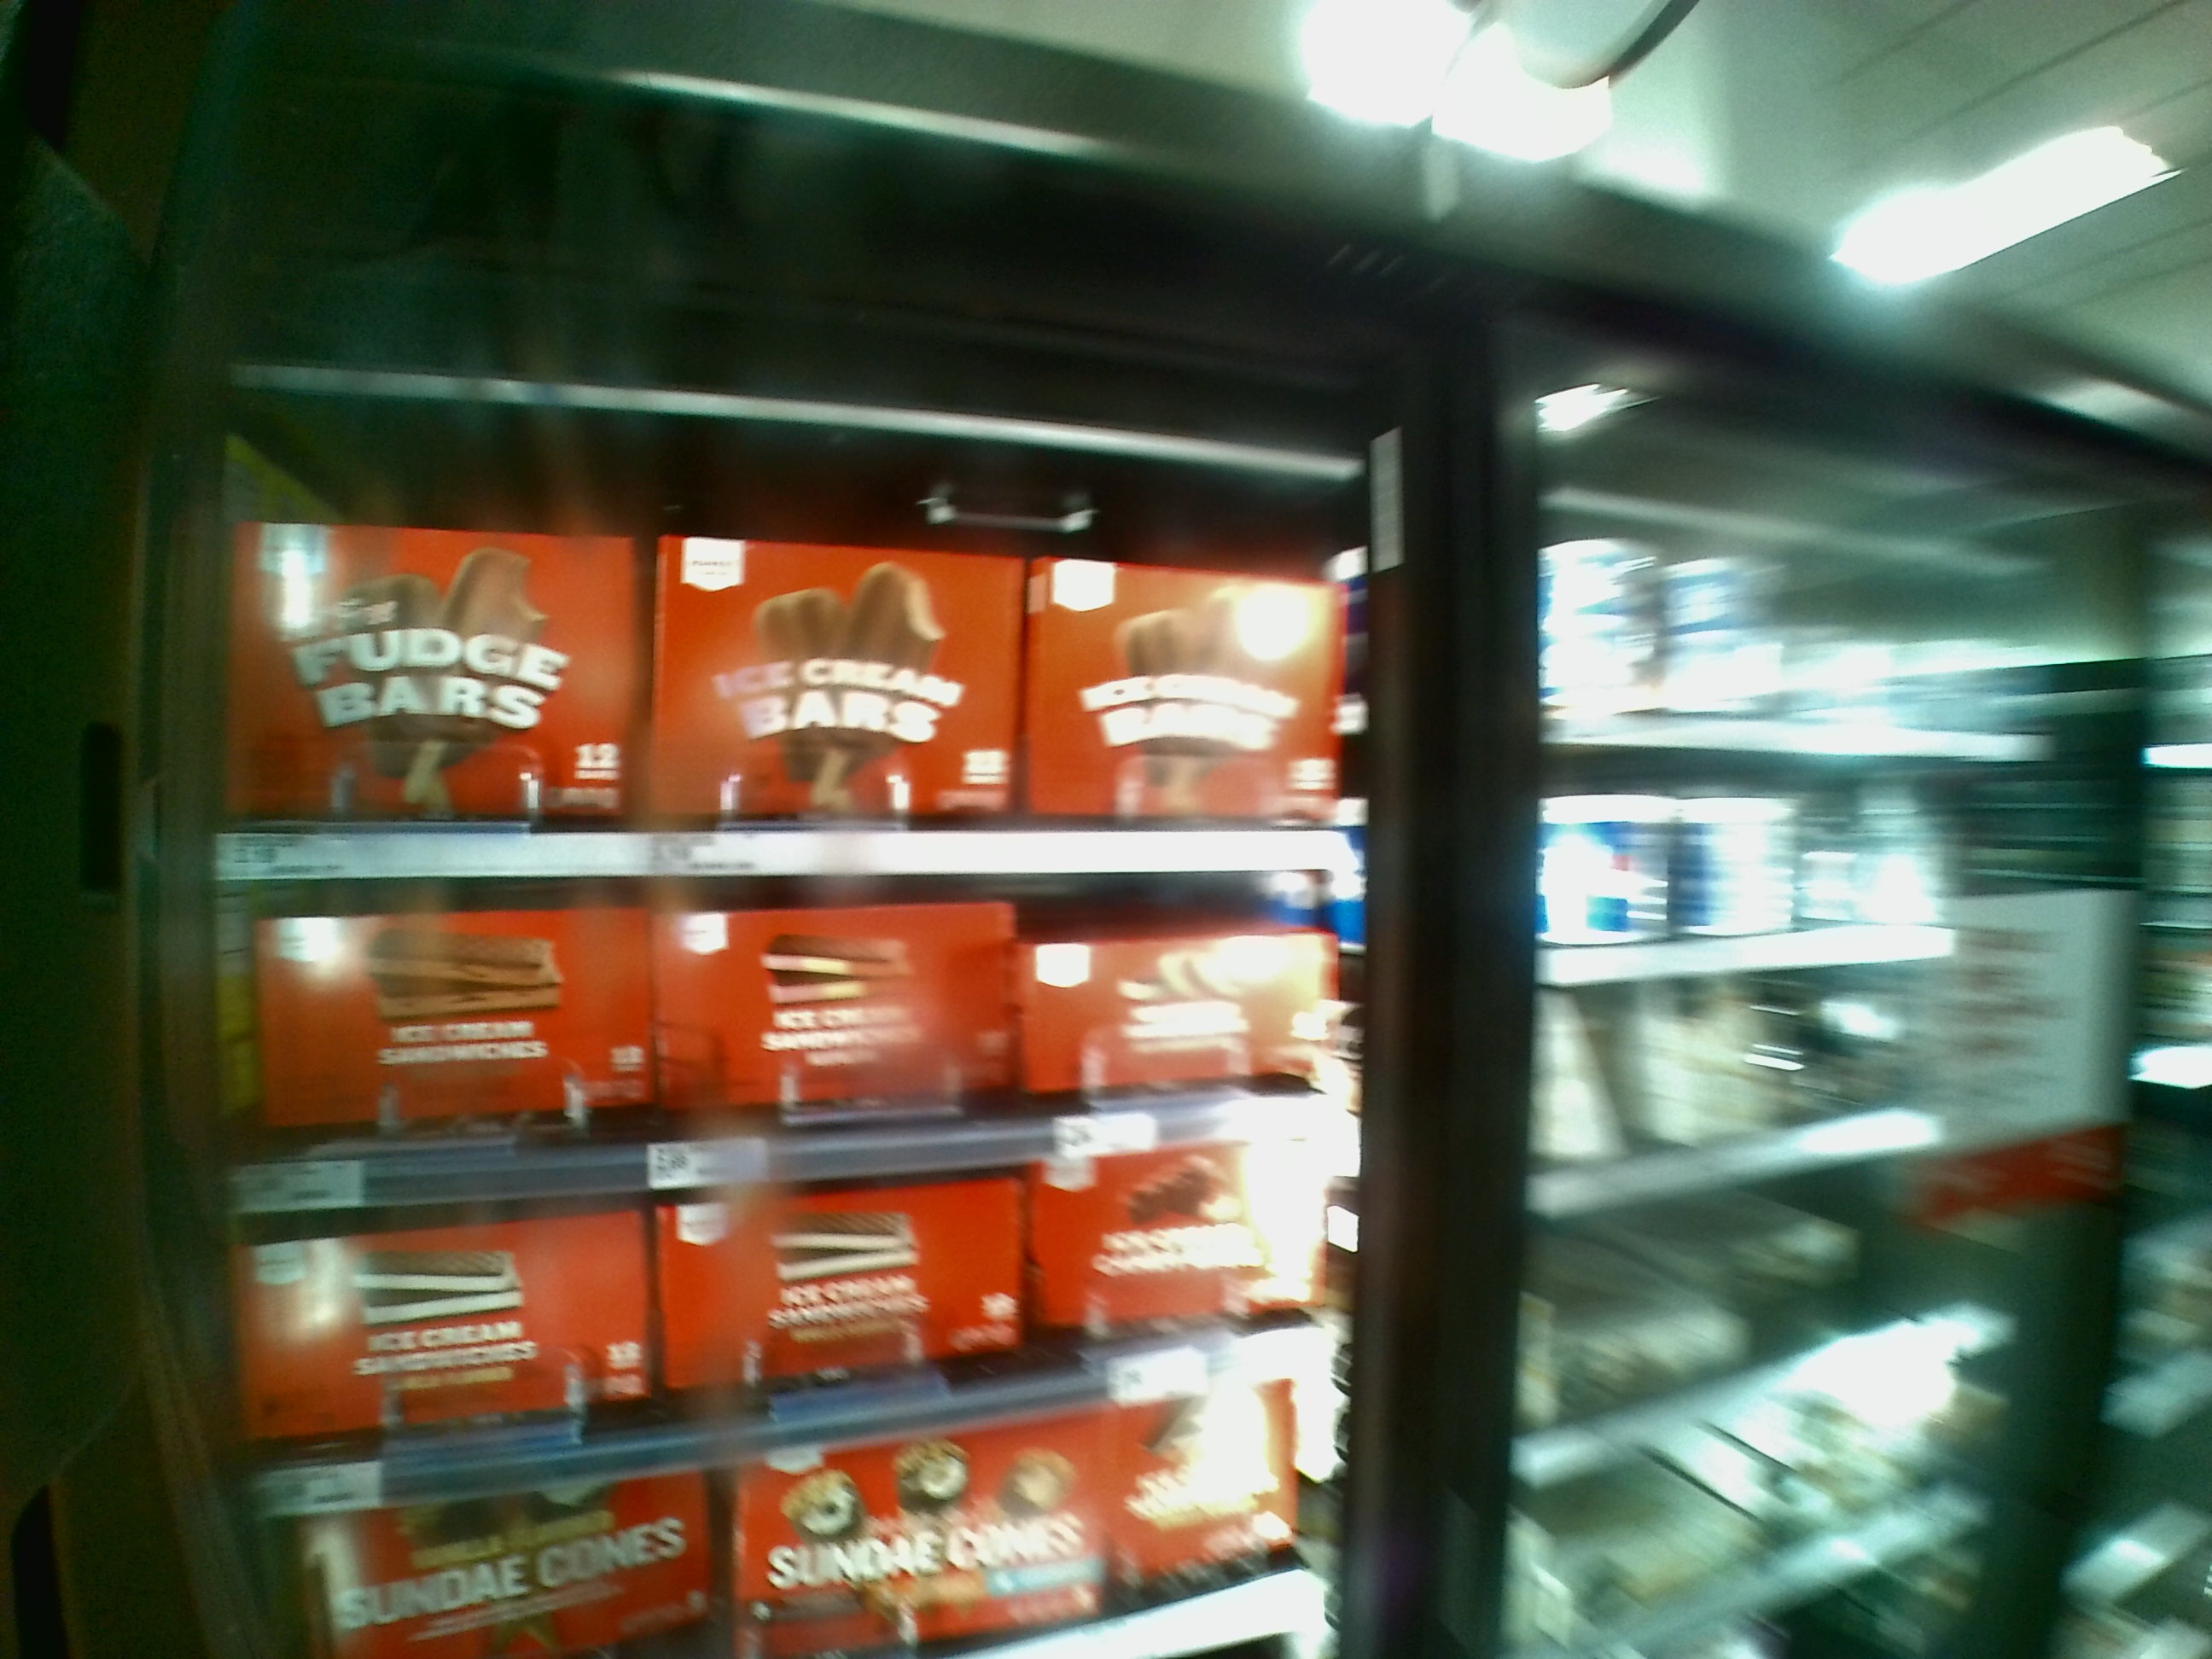shelf: (216, 420, 1367, 870), (228, 1157, 1357, 1450), (214, 884, 1317, 1168)
